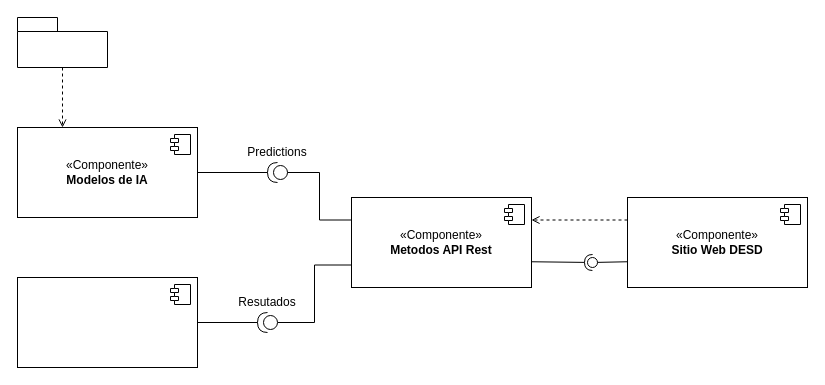
This 825x385 diagram has some shape labels left out. The shapes that lost their labels are listed below. From the top down, each one's centre as x and y in pixels, then its label:
At (x=62, y=42): "parse result".
At (x=107, y=322): "«Componente » Modelos NO IA".
